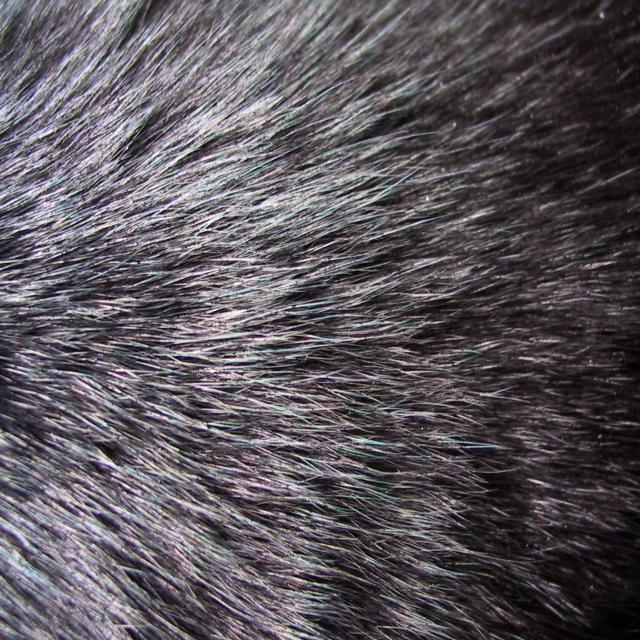Healthy skin: (247, 56, 512, 445), (34, 53, 210, 286), (12, 368, 184, 570), (340, 482, 573, 620), (540, 90, 622, 370)
